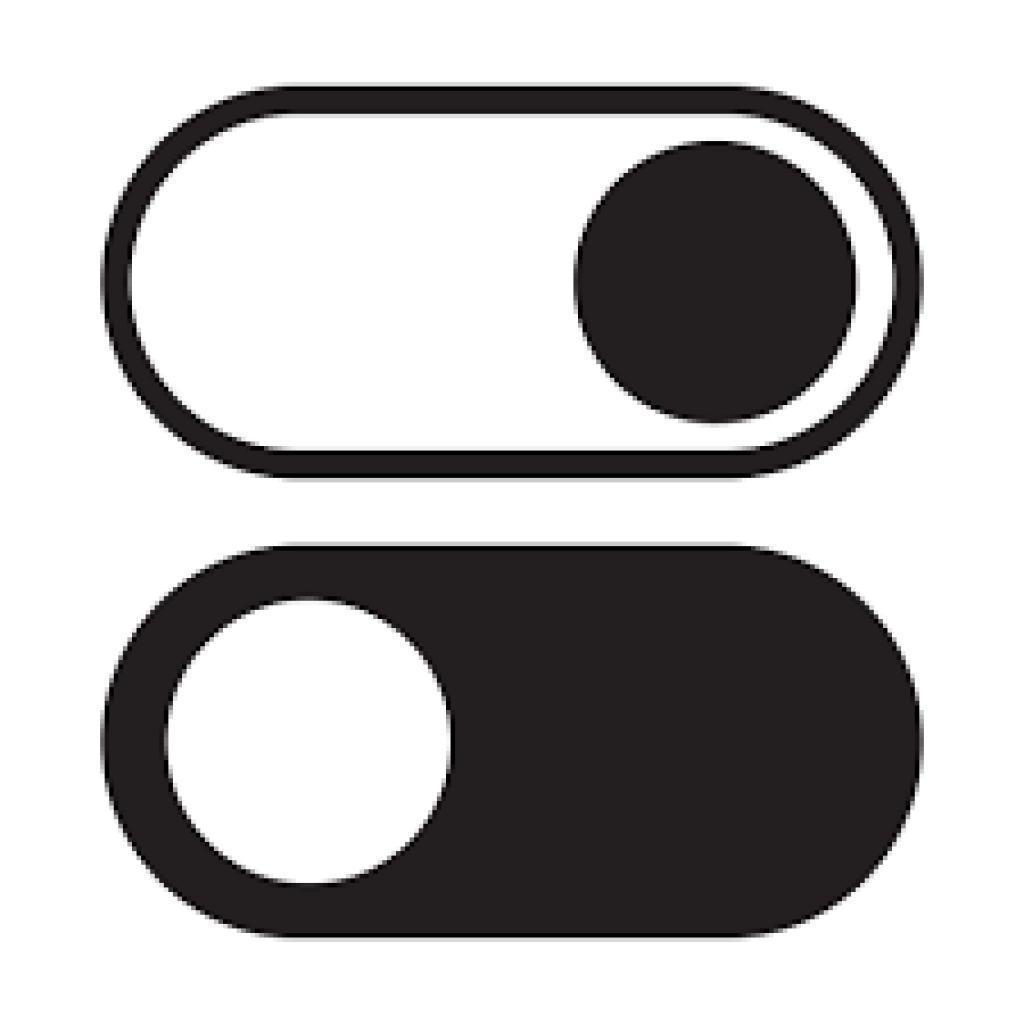switch: (95, 81, 931, 485), (99, 536, 928, 938)
